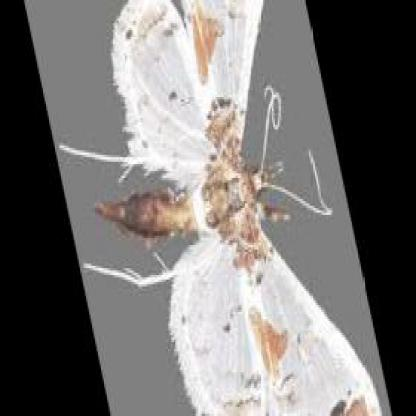leucinodes: (96, 2, 380, 410)
